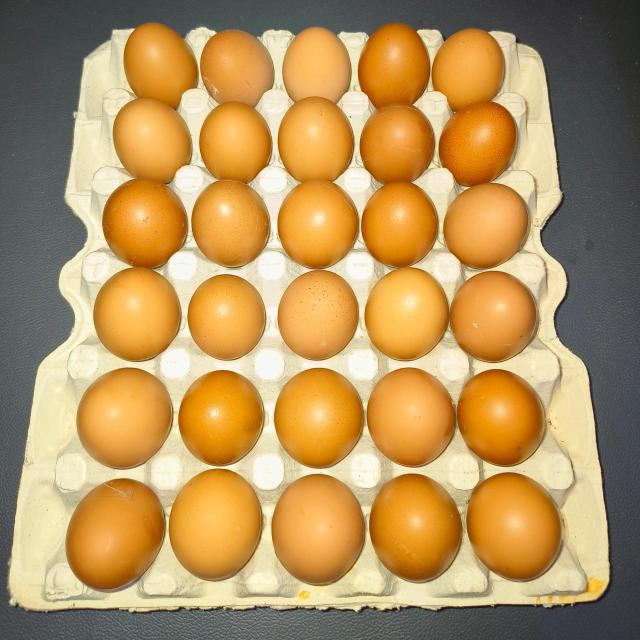Eggs: (61, 478, 165, 593), (472, 471, 566, 589), (168, 471, 262, 583), (371, 472, 461, 586), (272, 478, 366, 580), (275, 363, 361, 471), (76, 372, 172, 468), (92, 264, 178, 366), (459, 370, 546, 467), (450, 270, 539, 364), (369, 371, 455, 467), (178, 369, 262, 465), (366, 268, 446, 365), (271, 181, 360, 268), (274, 276, 361, 360), (186, 274, 264, 364), (442, 184, 528, 265), (101, 184, 189, 261), (360, 180, 438, 264), (194, 181, 268, 265), (434, 22, 510, 101), (444, 105, 520, 182), (280, 102, 354, 178), (113, 104, 185, 180), (363, 105, 432, 181), (362, 22, 430, 99), (201, 33, 274, 102), (122, 29, 196, 95), (286, 29, 352, 98), (201, 109, 270, 175)
